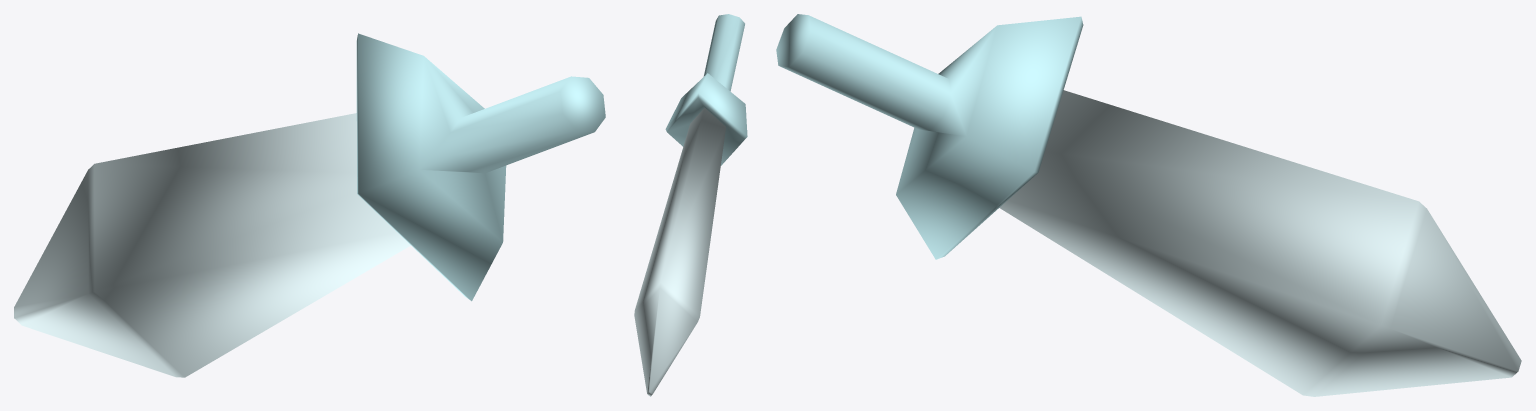
The model's file is sword_up.glb.
3 views of the same model, side by side, from view 1: azimuth 30°, elevation 25°; view 2: azimuth 150°, elevation 25°; view 3: azimuth 270°, elevation 25° (orthographic). The views are drawn at different scales.
Parts seen in each view (by area): view 1: sword.001; view 2: sword.001; view 3: sword.001.
Part boxes in pixels (x1,y1,x2,y2): sword.001: [14, 33, 605, 377]; sword.001: [634, 14, 747, 396]; sword.001: [776, 14, 1521, 396].
Bounding box in the file's own units: 0.3 × 0.5496 × 0.8112.
1 material, 1 textured.
